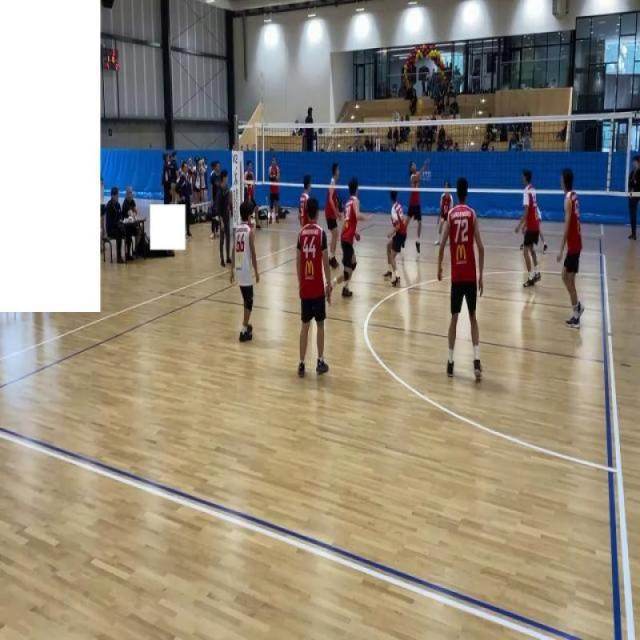volleyball: (415, 96, 424, 116), (381, 51, 387, 58)
